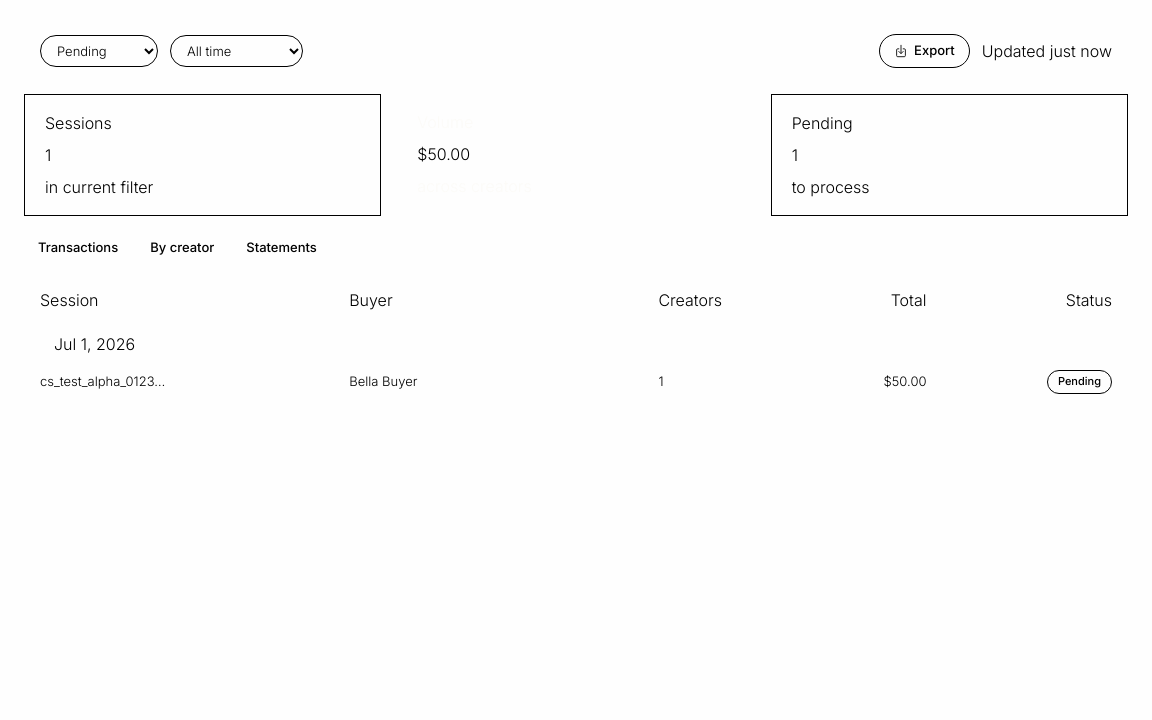
Refunds stub (add-refunds-ui) › the payments peek carries a disabled Refund action
Click the text "Bella Buyer": {"x": 383, "y": 381} [349,373,417,389]
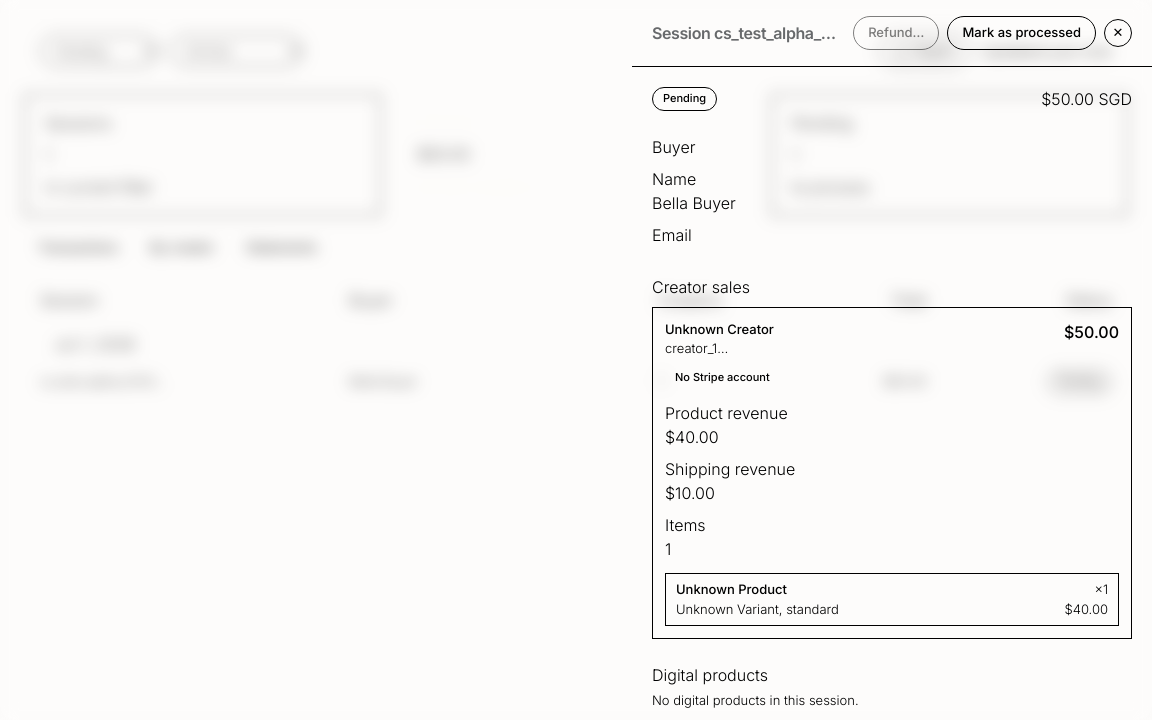
Result: the button "Refund…" is disabled at [853,16,939,50]
Result: the button "Mark as processed" is enabled at [948,16,1096,50]
